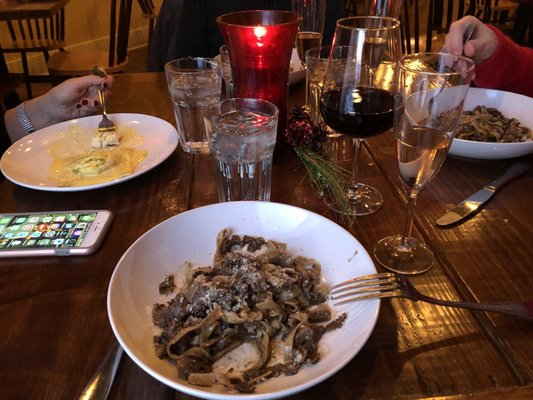burger: (436, 160, 532, 229), (327, 273, 403, 306), (95, 88, 119, 150)
pizza: (215, 9, 301, 155), (206, 98, 279, 203), (165, 57, 222, 156)
sushi: (105, 200, 385, 399), (448, 86, 533, 161)
